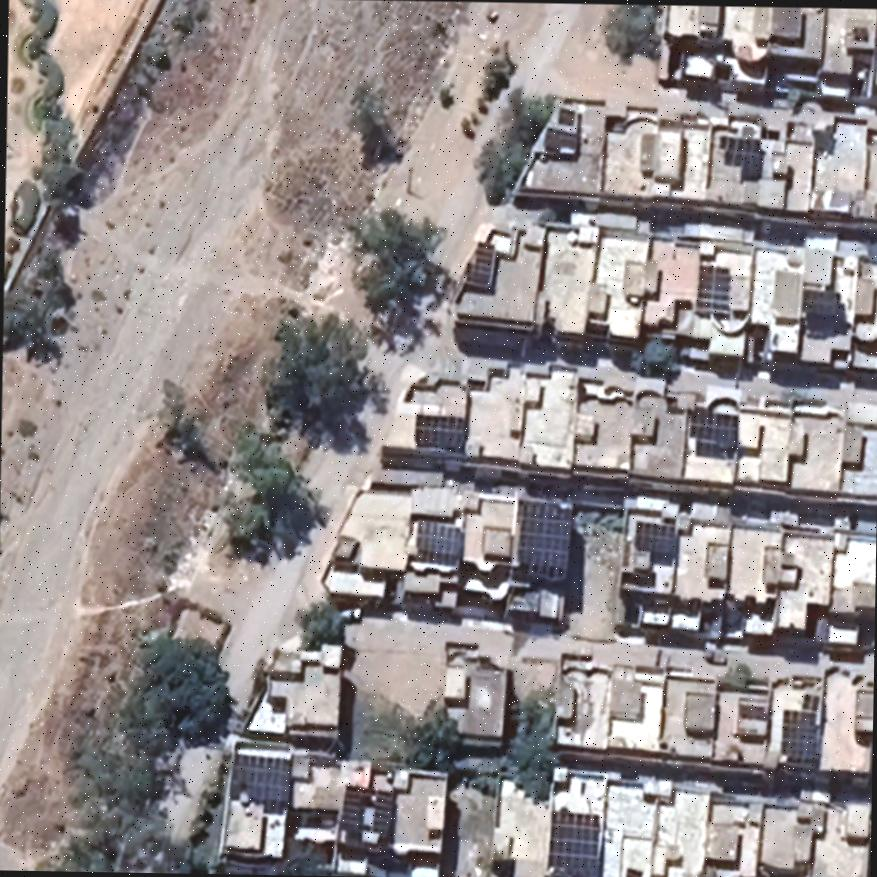Solarpanel: (514, 500, 573, 581), (333, 783, 397, 852), (225, 747, 292, 810), (544, 805, 603, 873), (776, 691, 822, 767), (410, 516, 466, 570), (692, 258, 735, 322), (683, 404, 741, 448), (411, 412, 470, 455), (459, 238, 498, 290), (632, 518, 681, 559), (715, 137, 764, 172), (539, 124, 585, 157), (798, 285, 841, 319), (554, 105, 579, 127)
